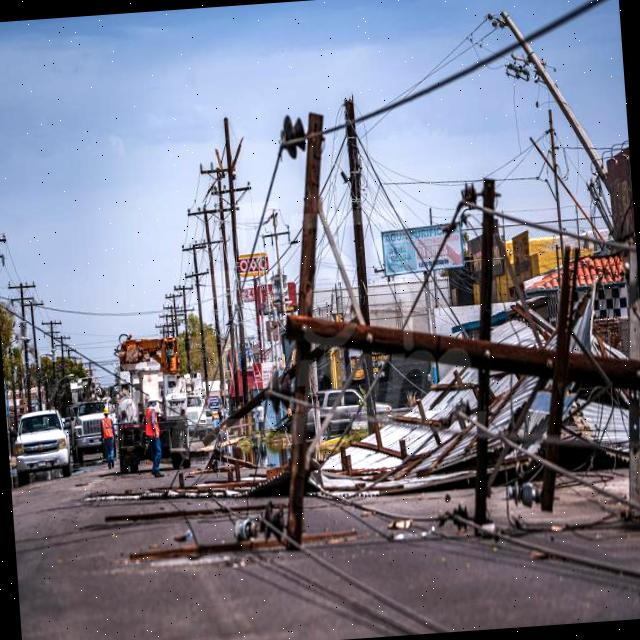Broken Pole: (196, 72, 640, 554)
